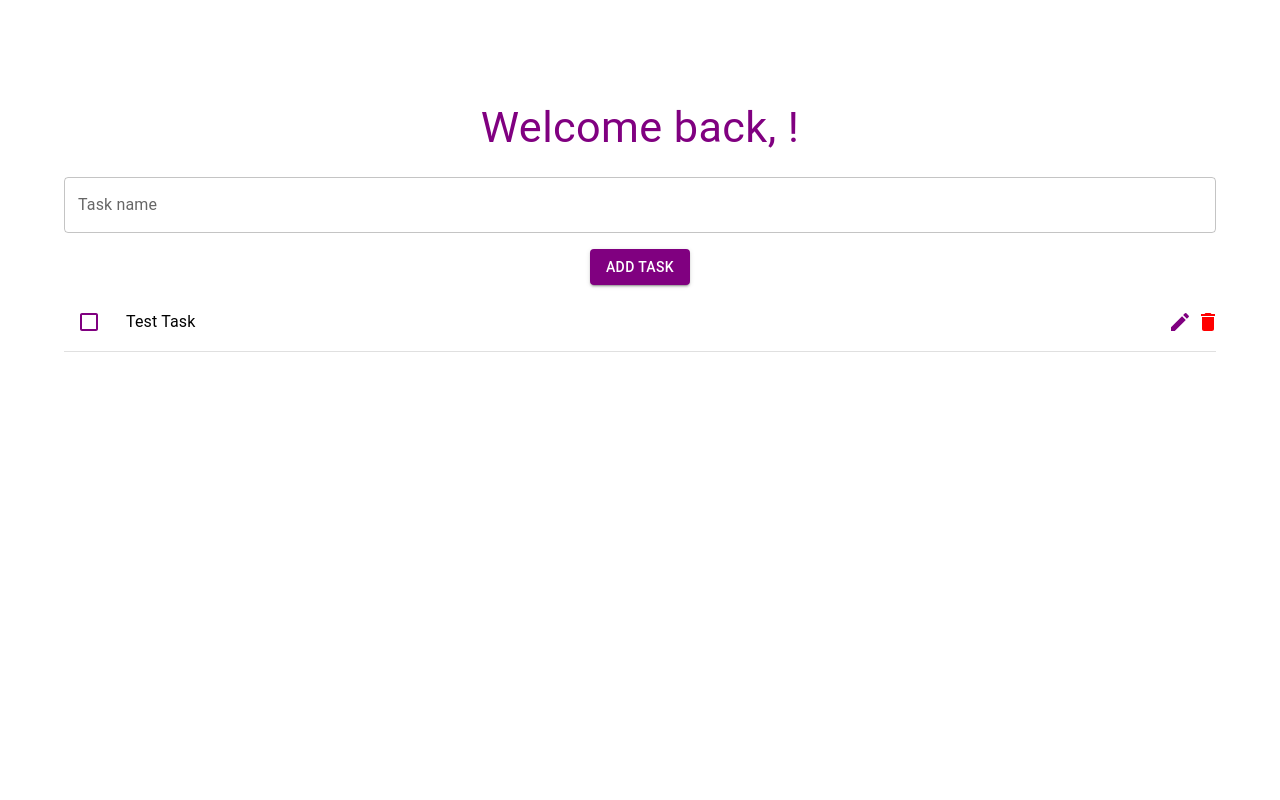
Test: ItemsList Component › should edit a task
The width and height of the screenshot is (1280, 800).
Click the button named "edit" at (1180, 322), box [1160,302,1200,342]
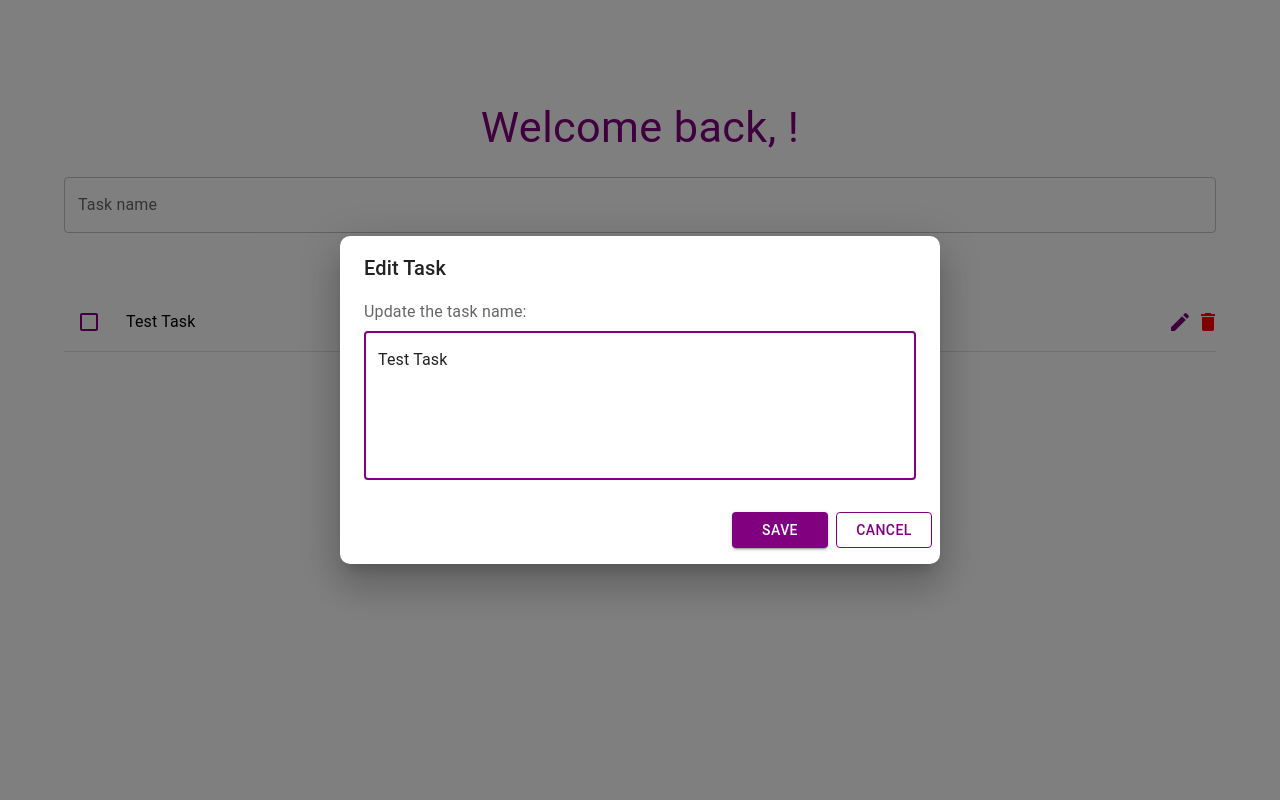
Now the heading "Edit Task" is shown, box [364,256,446,280]
Replace the text in the text box showing "Test Task" with "Updated Task" at (640, 406), box [378,348,902,463]
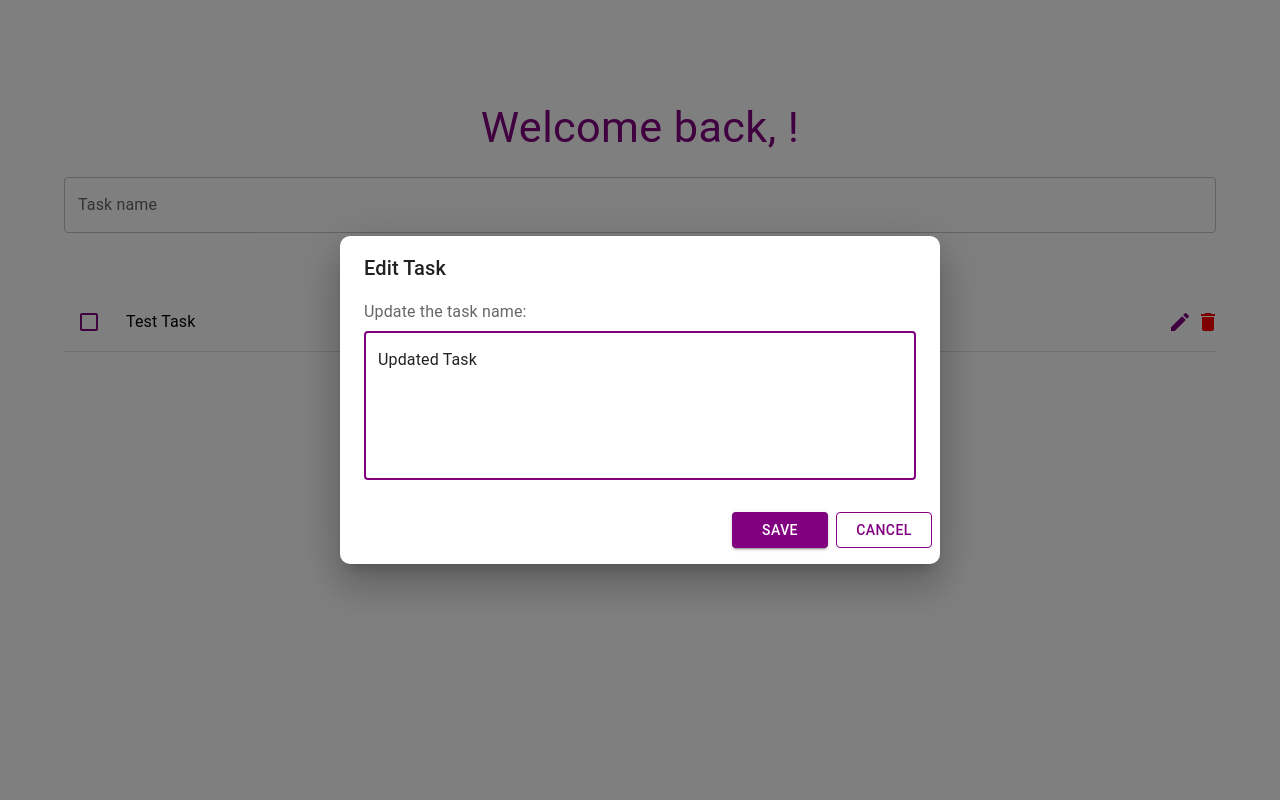
Click the button "Save" at (780, 530), box [732,512,828,548]
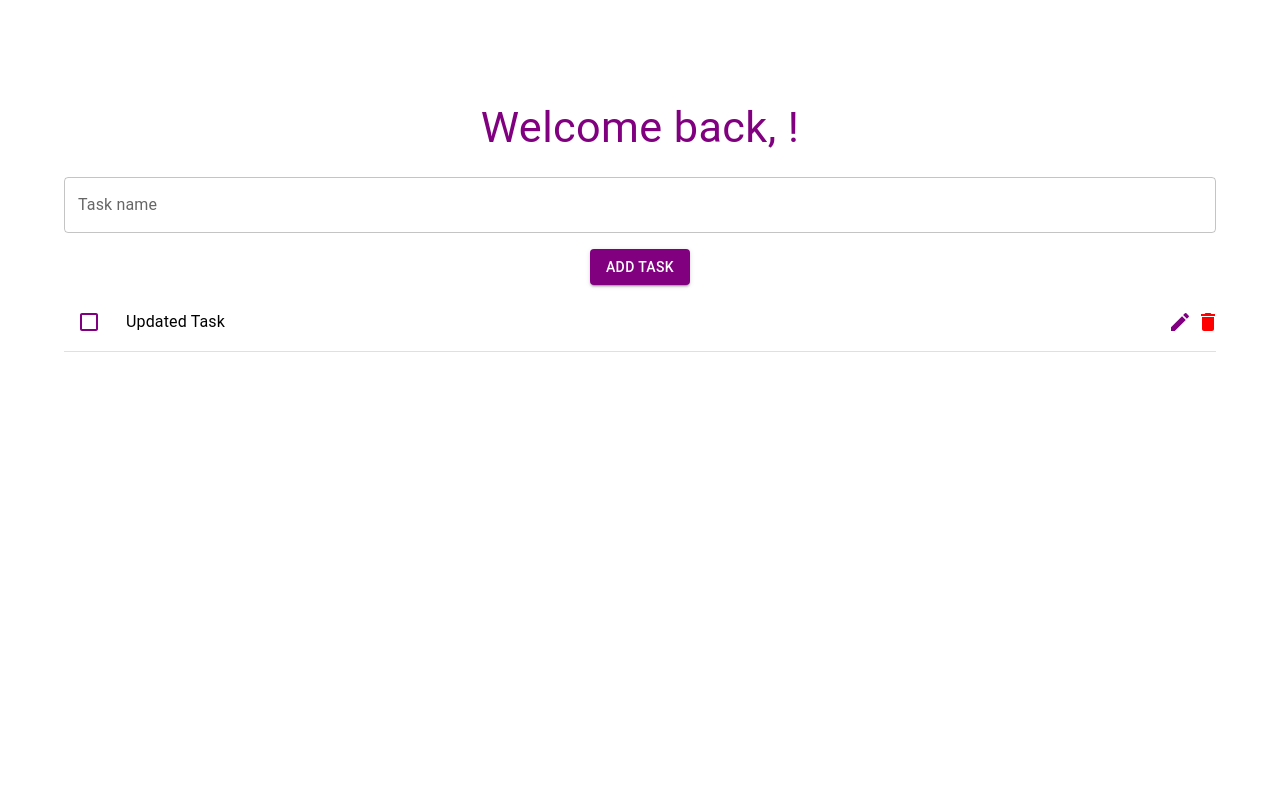
Now the text "Updated Task" is shown, box [126,312,225,331]
